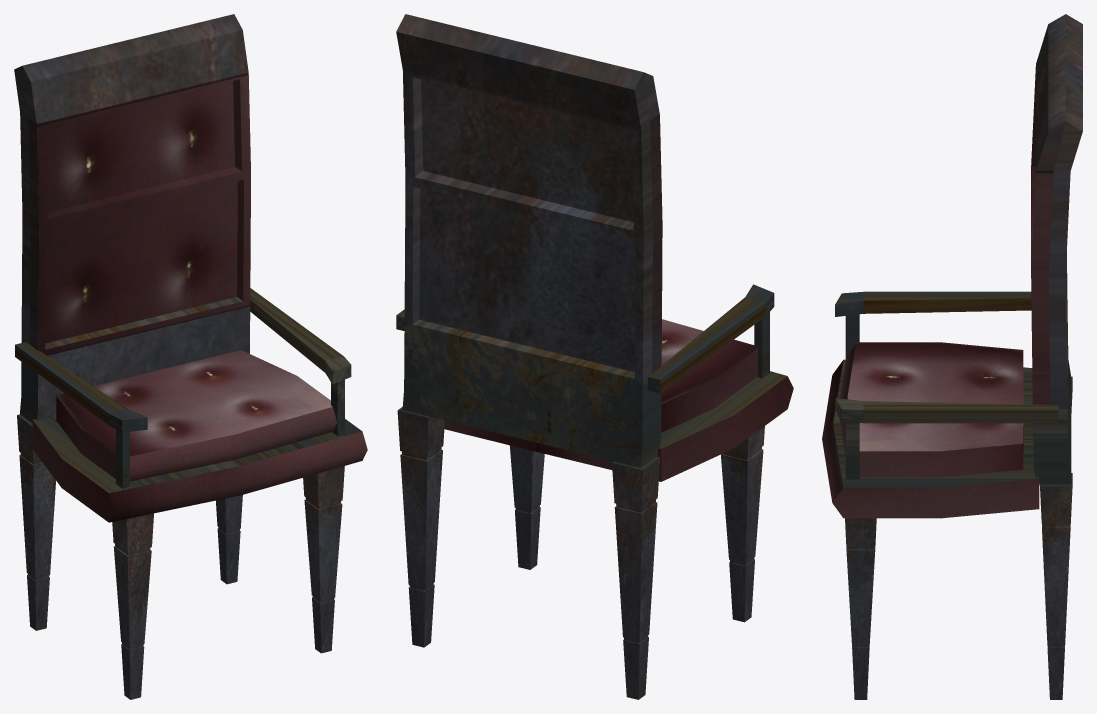
The model's file is chair2.fbx.
The picture shows the model from 3 angles, left to right: view 1: azimuth 30°, elevation 25°; view 2: azimuth 150°, elevation 25°; view 3: azimuth 270°, elevation 25°; orthographic projection. The views are drawn at different scales.
Visible parts, largest first — view 1: chairMesh; view 2: chairMesh; view 3: chairMesh.
Boxes of the visible parts, <box> form: chairMesh: <box>14,14,367,699</box>; chairMesh: <box>396,14,793,699</box>; chairMesh: <box>822,14,1082,699</box>.
Size of the model in its own units: 98.97 by 209 by 85.18.
Materials: 1 (1 with a texture image).
